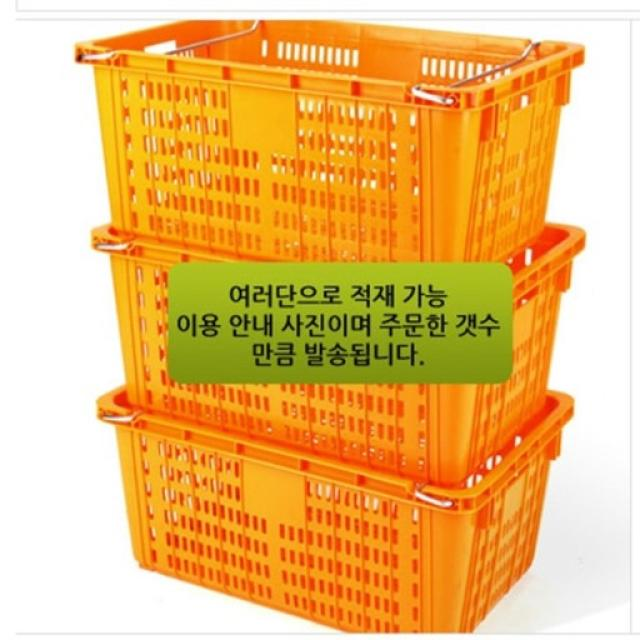basket: (93, 225, 586, 486), (73, 19, 585, 263), (95, 388, 575, 635)
